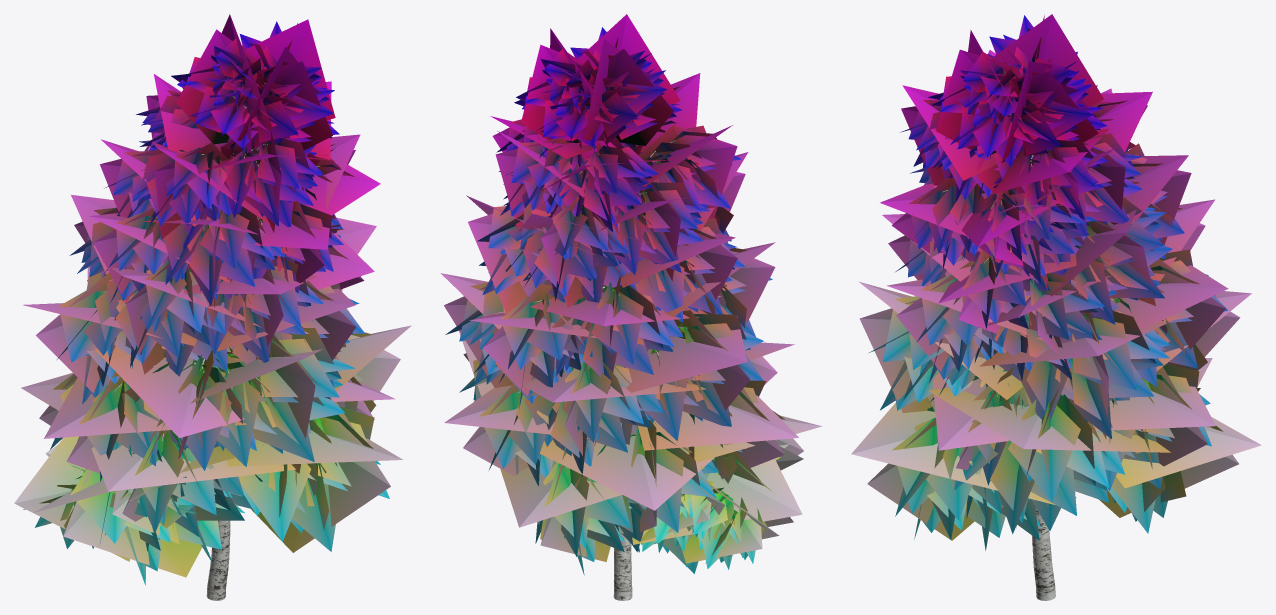
Rendered from birch_tree.FBX.
3 renders of one model, left to right at view 1: azimuth 30°, elevation 25°; view 2: azimuth 150°, elevation 25°; view 3: azimuth 270°, elevation 25°, orthographic. The views are drawn at different scales.
Visible parts, largest first — view 1: birch_leaves_lod_0, birch_leaves_shadow, birch_trunk_lod_0; view 2: birch_leaves_lod_0, birch_leaves_shadow, birch_trunk_lod_0; view 3: birch_leaves_lod_0, birch_leaves_shadow, birch_trunk_lod_0.
Part boxes in pixels (x1,y1,x2,y2): birch_leaves_lod_0: (35,21,389,585); birch_leaves_shadow: (14,14,411,577); birch_trunk_lod_0: (206,520,230,600); birch_leaves_lod_0: (445,27,784,575); birch_leaves_shadow: (440,14,821,563); birch_trunk_lod_0: (613,533,632,600); birch_leaves_lod_0: (869,15,1228,550); birch_leaves_shadow: (851,14,1261,540); birch_trunk_lod_0: (1031,507,1055,600).
Size of what is drawn, in the model's own units: 9.7 by 14.48 by 9.11.
